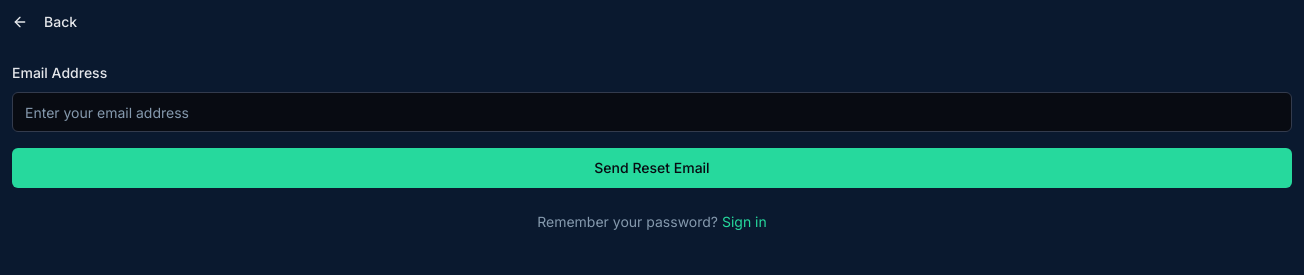
PasswordResetForm › Password Reset Request Step › should handle email not found error
Type "notfound@example.com" into the field with test id "email-input" at (652, 112), box [12, 92, 1292, 132]
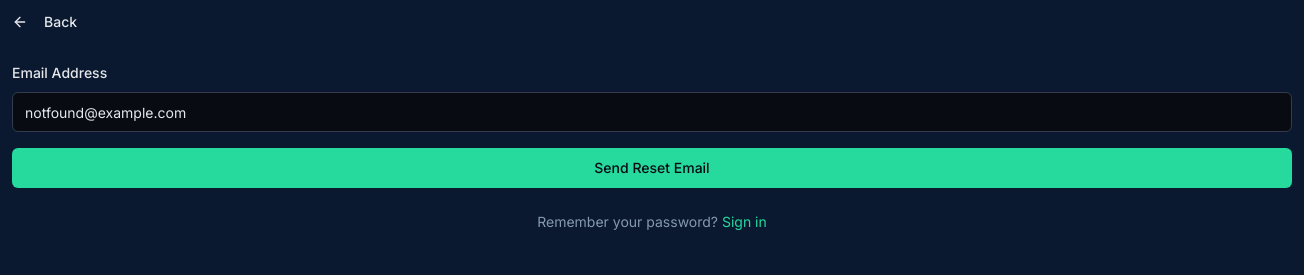
Click the button with test id "send-reset-email-button" at (652, 168), box [12, 148, 1292, 188]
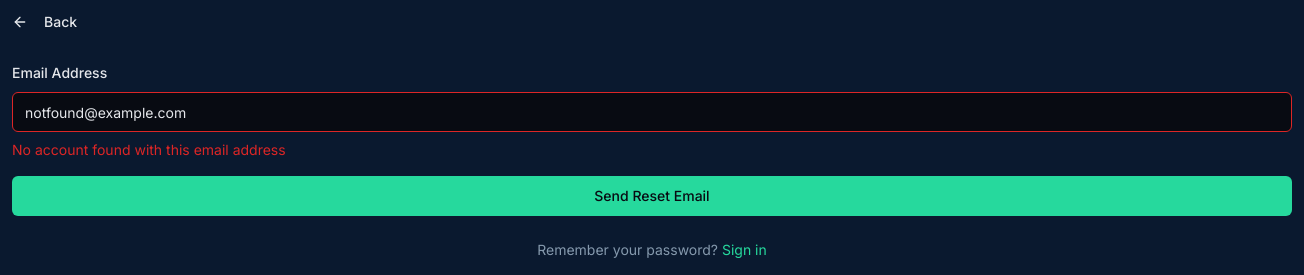
Check: the text with test id "email-error" reads "No account found with this email address", box [12, 141, 286, 158]
